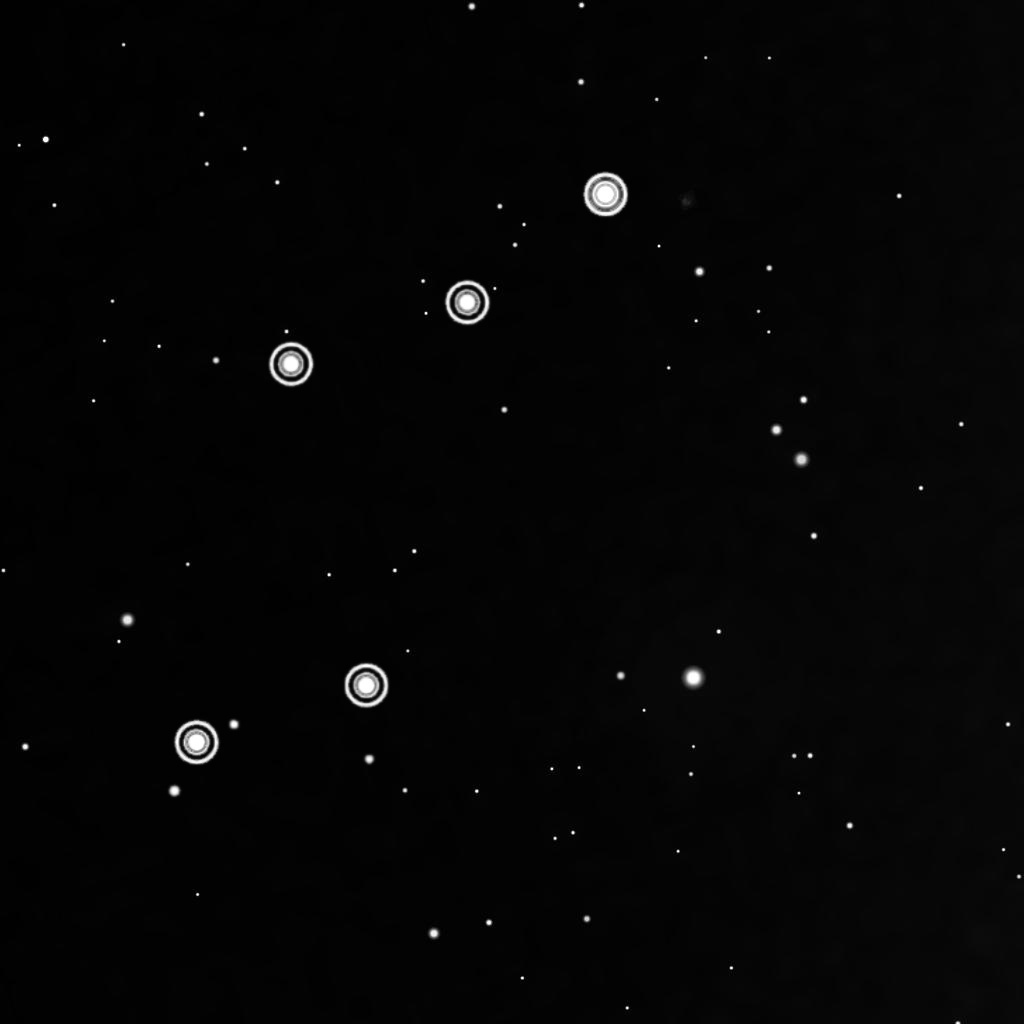lyra: (168, 161, 632, 773)
